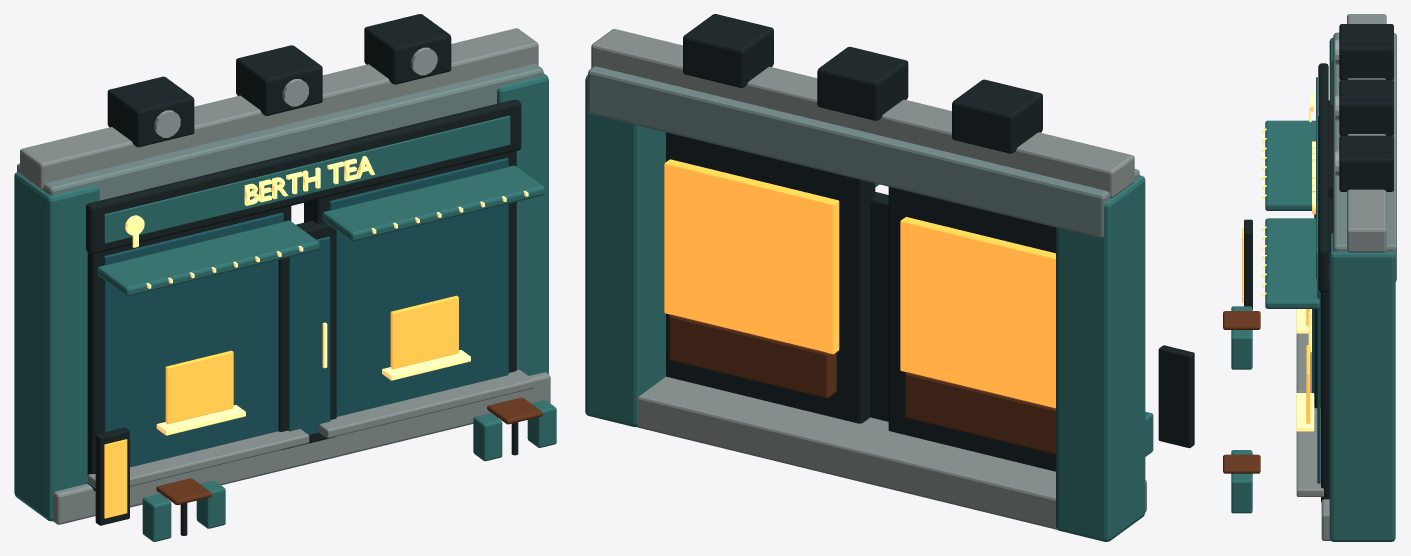
The model's file is teaF.glb.
3 views of the same model, side by side, from view 1: azimuth 30°, elevation 25°; view 2: azimuth 150°, elevation 25°; view 3: azimuth 270°, elevation 25° (orthographic). The views are drawn at different scales.
Parts seen in each view (by area): view 1: BerthTea_ACFan.001, BerthTea_BackPanel.001, BerthTea_AwningRib.001; view 2: BerthTea_ACFan.001, BerthTea_BackPanel.001; view 3: BerthTea_ACFan.001, BerthTea_AwningRib.001, BerthTea_BackPanel.001.
Part boxes in pixels (x1,y1,x2,y2): BerthTea_ACFan.001: [14, 14, 556, 541]; BerthTea_BackPanel.001: [104, 295, 458, 518]; BerthTea_AwningRib.001: [125, 156, 528, 435]; BerthTea_ACFan.001: [585, 14, 1194, 541]; BerthTea_BackPanel.001: [664, 159, 1055, 408]; BerthTea_ACFan.001: [1223, 14, 1396, 541]; BerthTea_AwningRib.001: [1262, 93, 1315, 431]; BerthTea_BackPanel.001: [1242, 227, 1310, 423].
Bounding box in the file's own units: 10.15 × 7.46 × 3.43.
3 materials, 3 textured.
